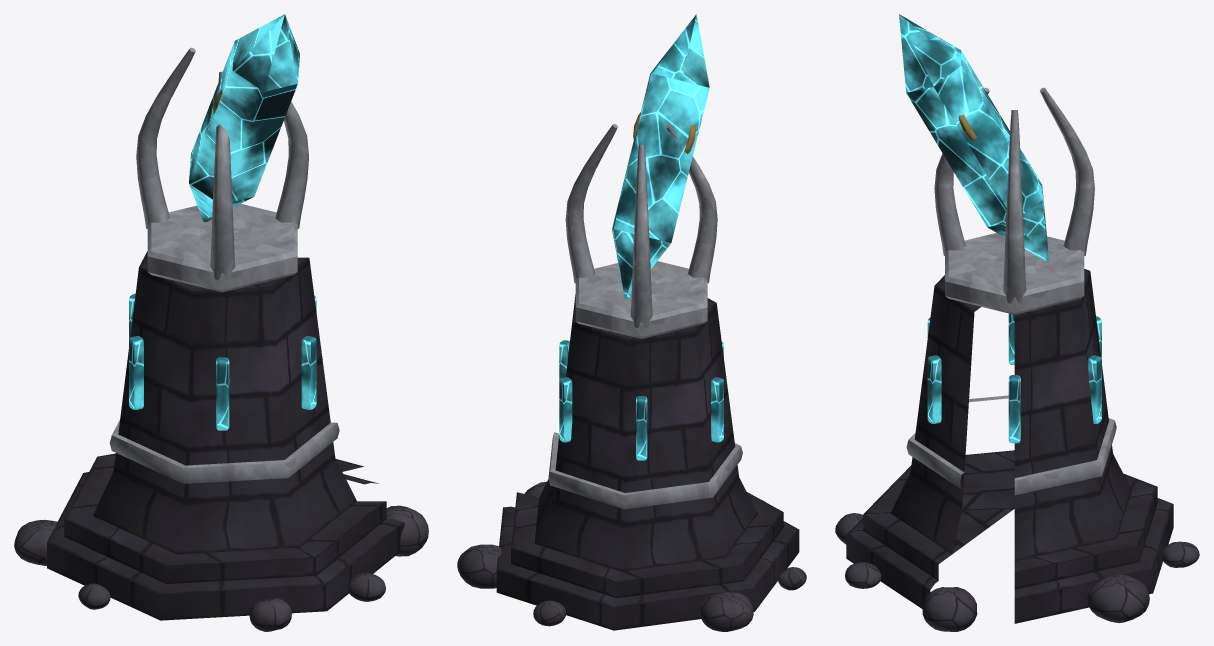
The model's file is laser.glb.
The picture shows the model from 3 angles, left to right: view 1: azimuth 30°, elevation 25°; view 2: azimuth 150°, elevation 25°; view 3: azimuth 270°, elevation 25°; orthographic projection. The views are drawn at different scales.
Parts seen in each view (by area): view 1: Base, Turret; view 2: Base, Turret; view 3: Base, Turret.
Boxes of the visible parts, x1,y1,x2,y2 form: Base: [14, 251, 428, 631]; Turret: [136, 14, 308, 292]; Base: [457, 294, 806, 631]; Turret: [565, 14, 717, 338]; Base: [835, 269, 1199, 631]; Turret: [899, 14, 1094, 314].
Bounding box in the file's own units: 0.8856 × 1.51 × 0.906.
5 materials, 5 textured.
